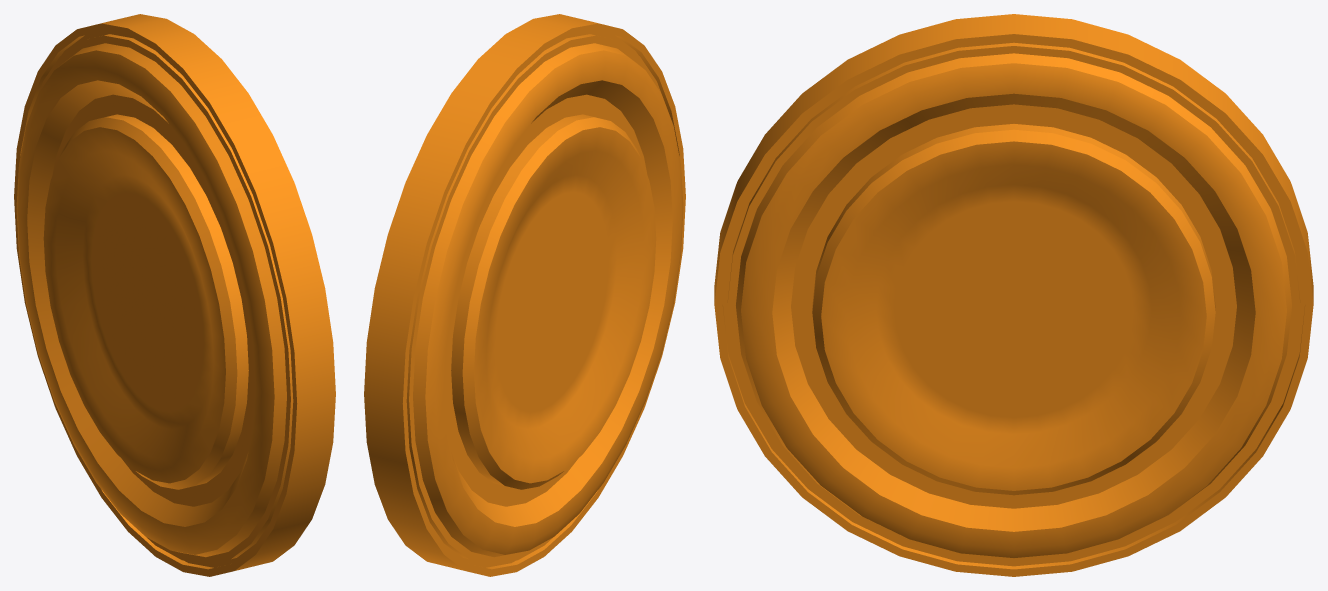
Rendered from goldcoin.fbx.
The picture shows the model from 3 angles, left to right: view 1: azimuth 30°, elevation 25°; view 2: azimuth 150°, elevation 25°; view 3: azimuth 270°, elevation 25°; orthographic projection. The views are drawn at different scales.
Visible parts, largest first — view 1: Circle; view 2: Circle; view 3: Circle.
Part boxes in pixels (left/top/right/bottom): Circle: left=14, top=14, right=335, bottom=576; Circle: left=364, top=14, right=685, bottom=576; Circle: left=714, top=14, right=1313, bottom=576.
Bounding box in the file's own units: 0.0529 × 0.3234 × 0.3234.
